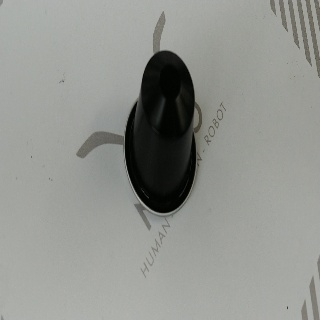capsule_10: (123, 49, 197, 216)
